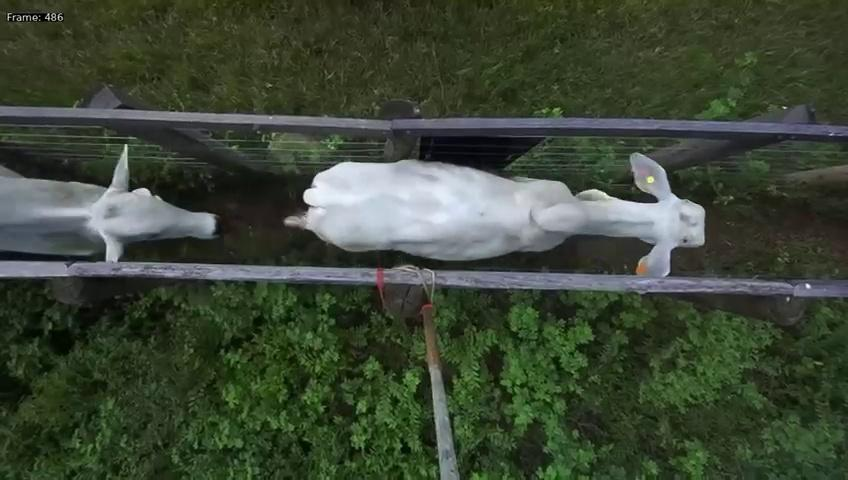cattle: (283, 132, 707, 275)
